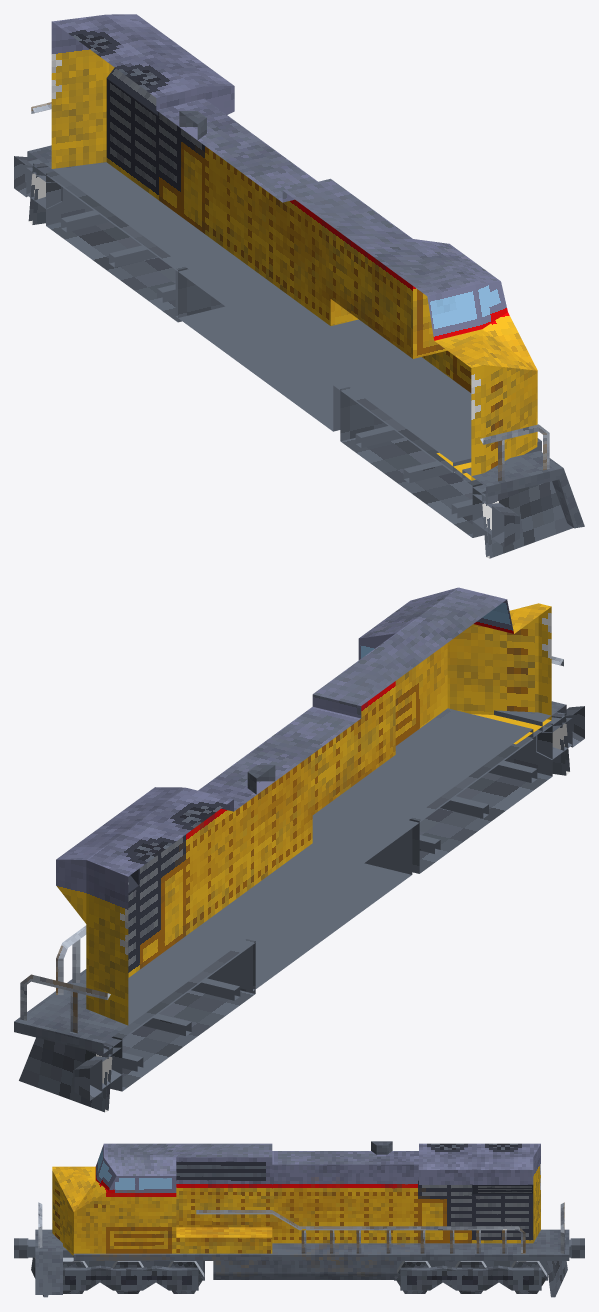
The model's file is diesel-locomotive.blend.glb.
The picture shows the model from 3 angles, top to bottom: view 1: azimuth 30°, elevation 25°; view 2: azimuth 150°, elevation 25°; view 3: azimuth 270°, elevation 25°; orthographic projection. The views are drawn at different scales.
Visible parts, largest first — view 1: locomotive, loco-front-truck, loco-back-truck; view 2: locomotive, loco-back-truck, loco-front-truck; view 3: locomotive, loco-back-truck, loco-front-truck.
Boxes of the visible parts, box(x1,y1,x2,y2) form: locomotive: box(27, 14, 584, 528); loco-front-truck: box(340, 387, 572, 558); loco-back-truck: box(14, 156, 224, 322); locomotive: box(14, 587, 566, 1053); loco-back-truck: box(19, 939, 255, 1112); loco-front-truck: box(409, 706, 584, 873); locomotive: box(35, 1141, 569, 1294); loco-back-truck: box(394, 1238, 584, 1297); loco-front-truck: box(14, 1238, 204, 1297).
Bounding box in the file's own units: 0.9301 × 2.04 × 7.99.
Materials: 2 (2 with a texture image).
